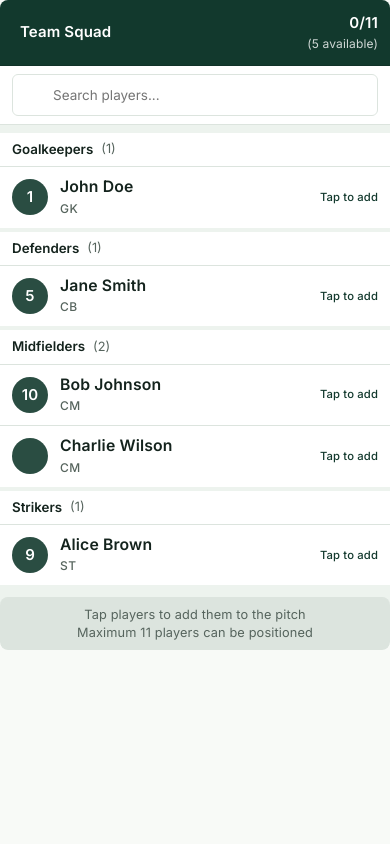
Test: PlayerSelectionPanel › Search Functionality › filters players by squad number
Type "10" into the field with placeholder "Search players..." at (195, 95), box [12, 74, 378, 116]
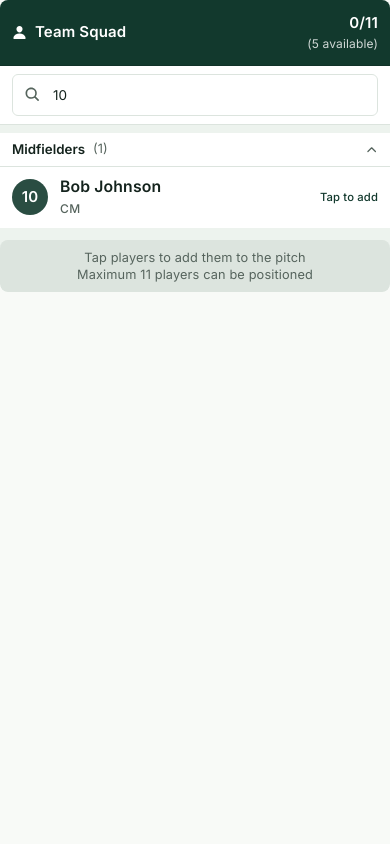
Expected: the text "Bob Johnson" is shown, [60, 177, 161, 196]
Expected: the text "John Doe" is gone
